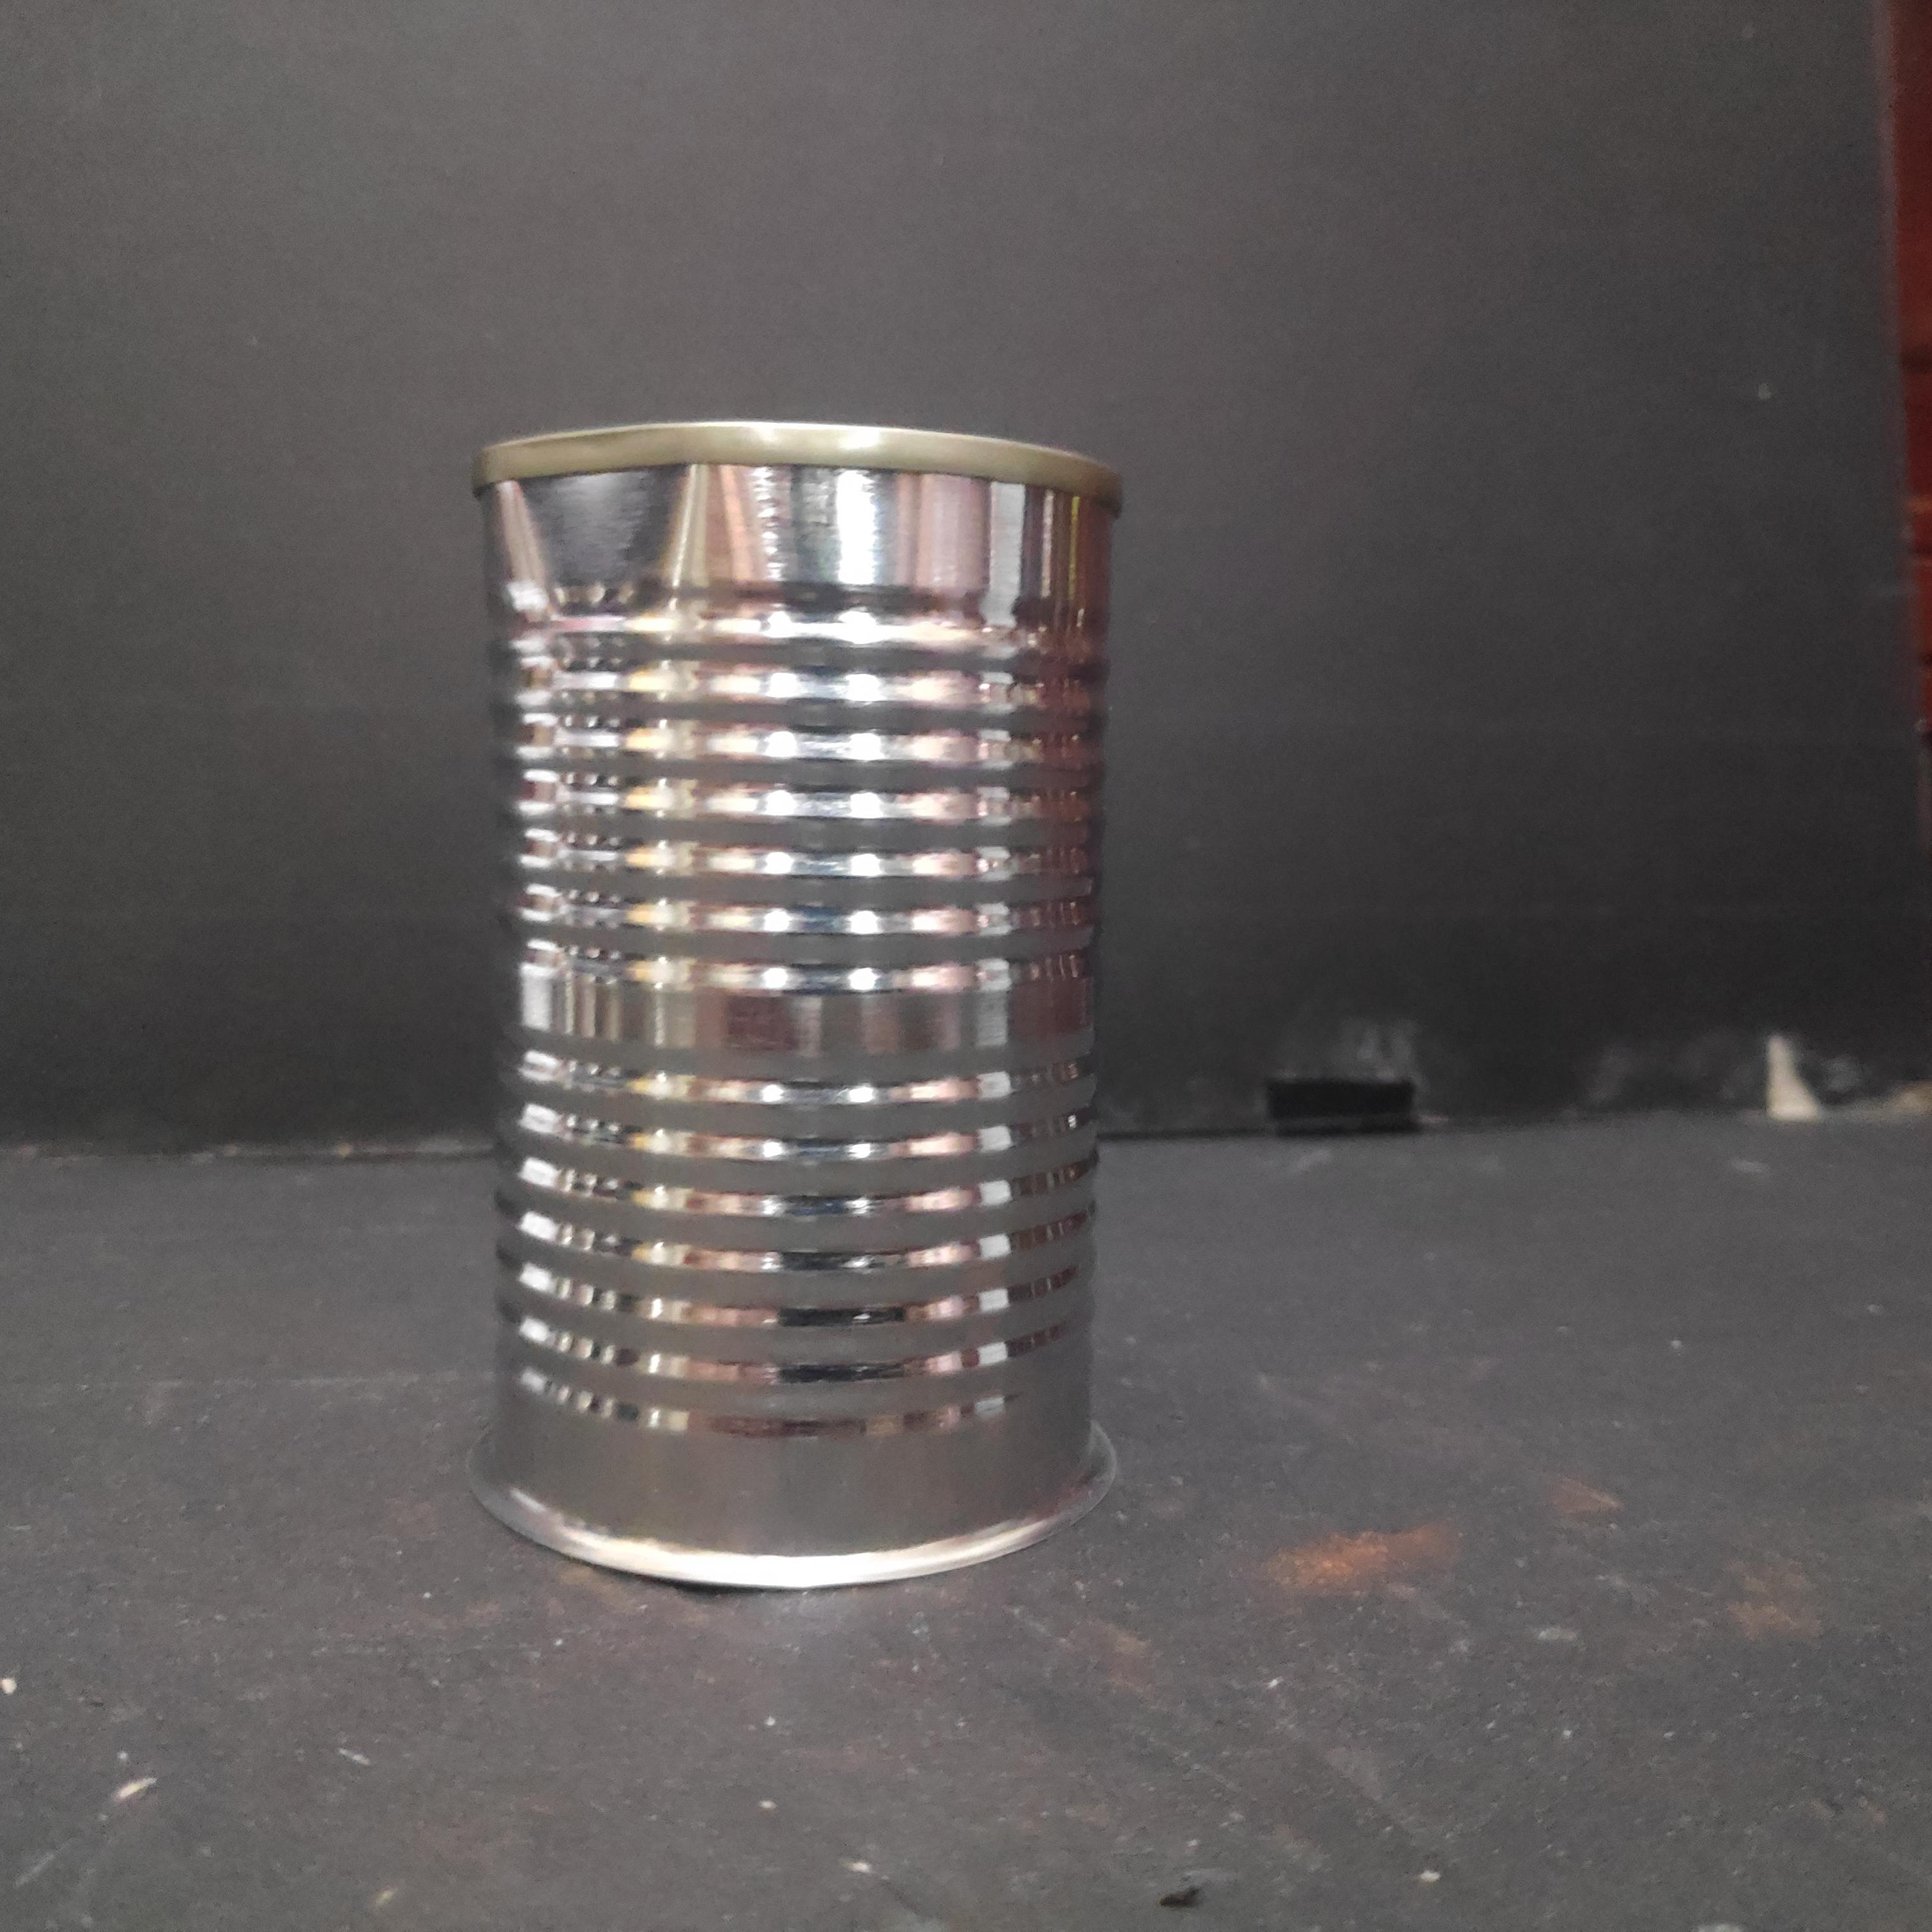Minor Defect: (464, 410, 1123, 1604)
